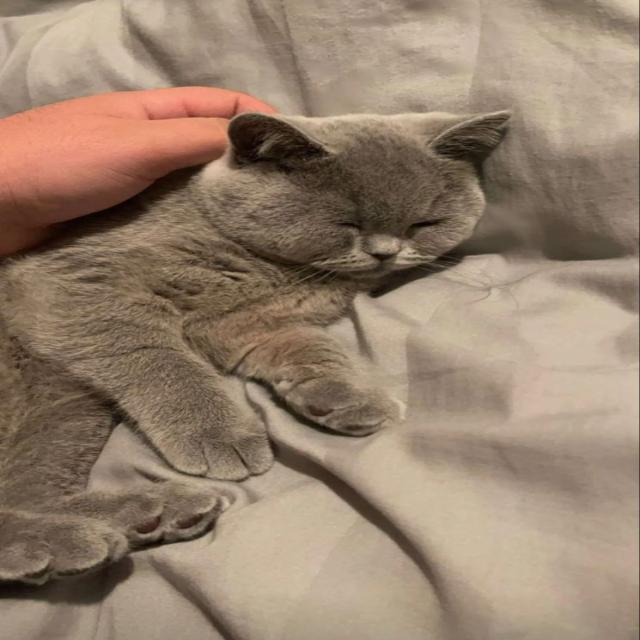british shorthair: (0, 104, 640, 596)
